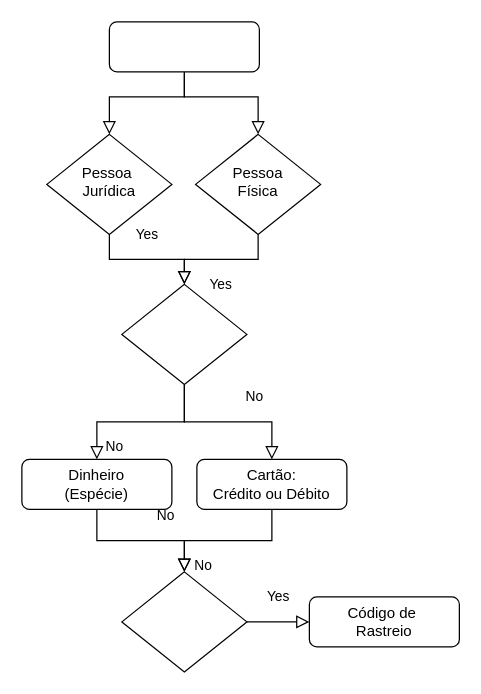
Image size: 481x694. Some labels were removed from this diagram. The box of each missing label's shape, as (x1, y1, x2, y2) in pixels:
CLIENTE: (108, 21, 259, 72)
Entrega: (121, 571, 247, 672)
Pagamento: (121, 283, 247, 384)
